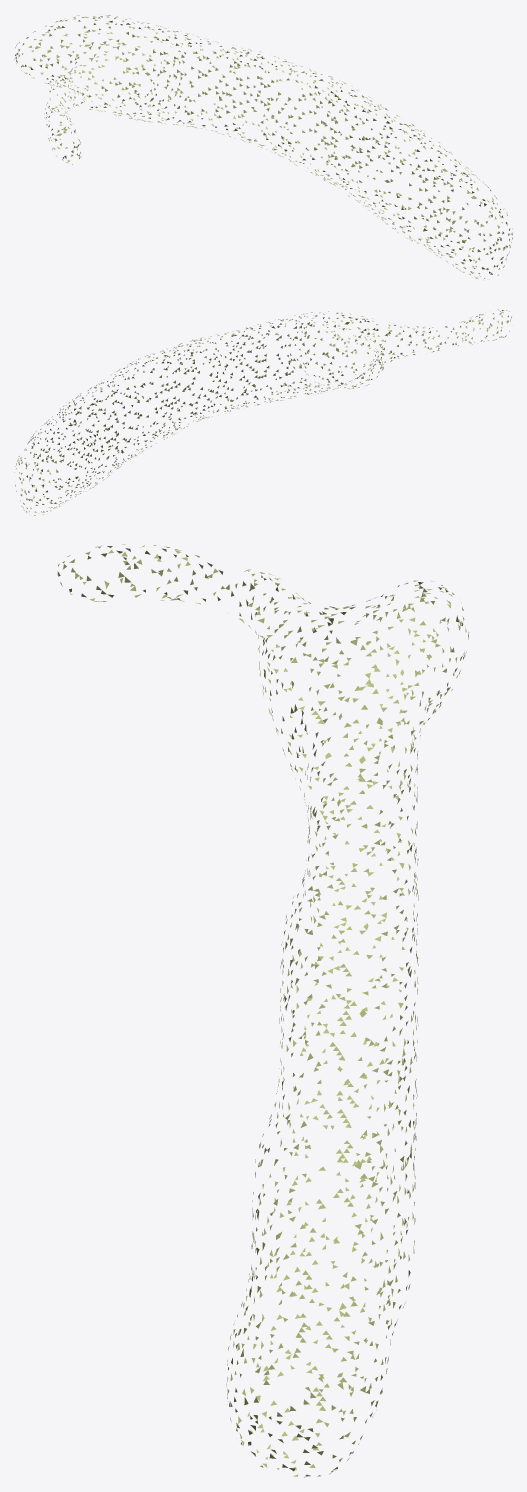
Rendered from morph_010.glb.
3 views of the same model, one above another, from view 1: azimuth 30°, elevation 25°; view 2: azimuth 150°, elevation 25°; view 3: azimuth 270°, elevation 25° (orthographic). The views are drawn at different scales.
Bounding box in the file's own units: 109 × 67.16 × 44.31.
